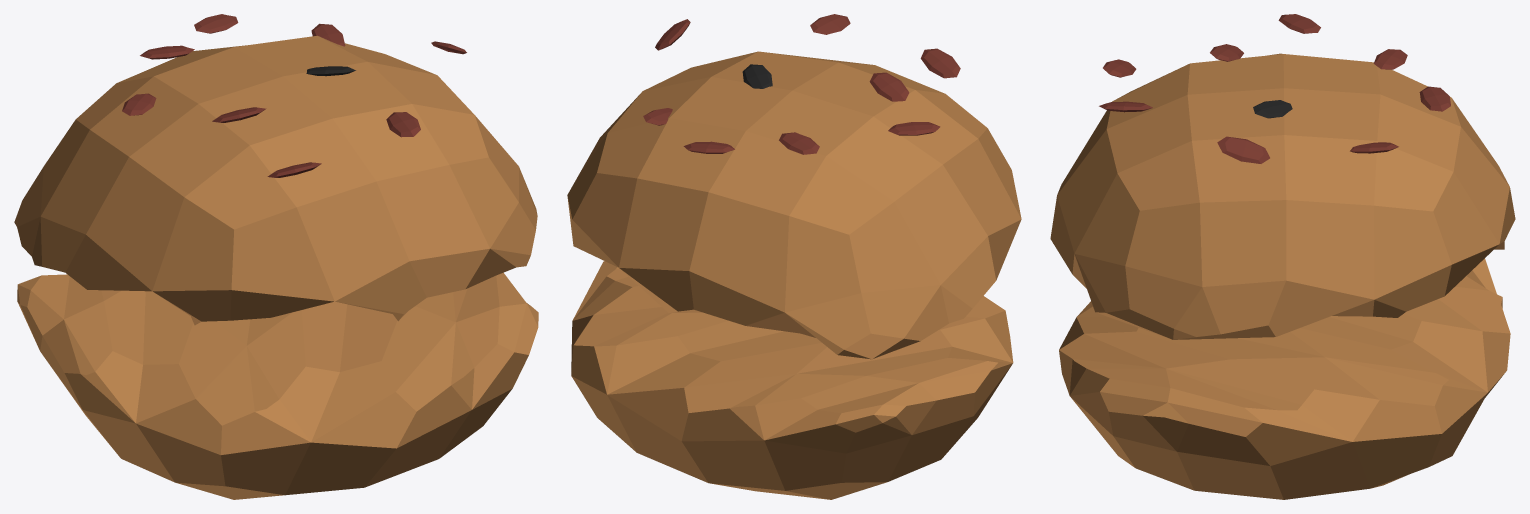
File: pao.fbx
The picture shows the model from 3 angles, left to right: view 1: azimuth 30°, elevation 25°; view 2: azimuth 150°, elevation 25°; view 3: azimuth 270°, elevation 25°; orthographic projection. The views are drawn at different scales.
Visible parts, largest first — view 1: Cube.009; view 2: Cube.009; view 3: Cube.009.
Boxes of the visible parts, left/top/right/bottom form: Cube.009: left=14, top=14, right=538, bottom=499; Cube.009: left=567, top=14, right=1021, bottom=499; Cube.009: left=1050, top=14, right=1515, bottom=499.
Size of the model in its own units: 142 by 126 by 135.
